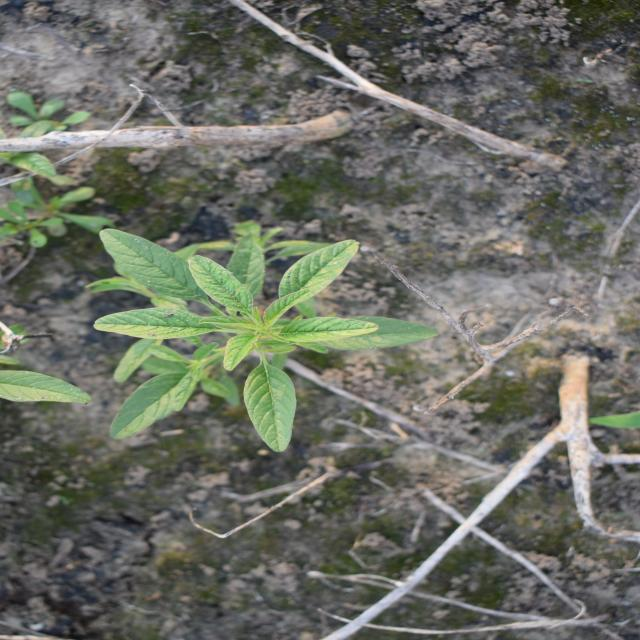Carpetweed: (3, 89, 120, 249)
Waterhemp: (82, 228, 443, 456)
